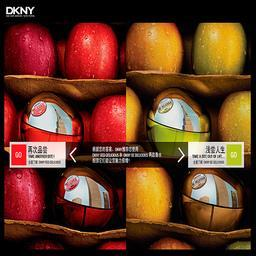apple: (62, 22, 119, 79), (3, 21, 57, 77), (125, 22, 183, 74), (189, 22, 246, 74), (88, 91, 143, 141), (6, 170, 45, 221), (216, 90, 251, 143)
